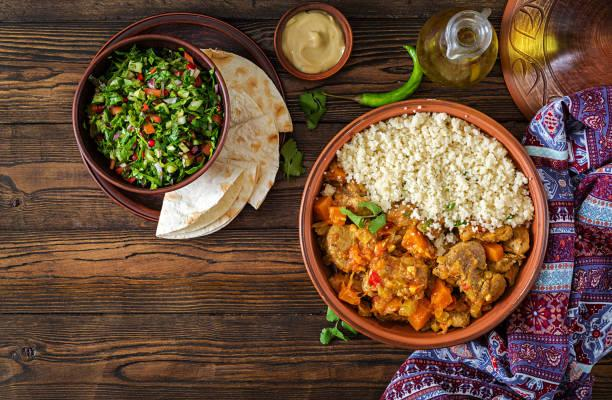Braised Crucian Carp: (298, 100, 542, 346), (74, 11, 289, 229)
